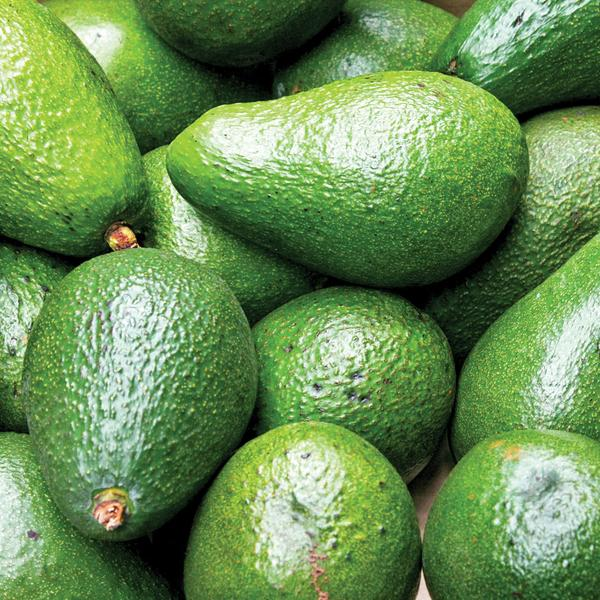unripe: (166, 70, 529, 287), (24, 247, 258, 542), (415, 105, 600, 375), (182, 422, 424, 600), (253, 287, 458, 487), (1, 1, 148, 254), (448, 232, 600, 465), (422, 430, 600, 599), (426, 1, 600, 113)
